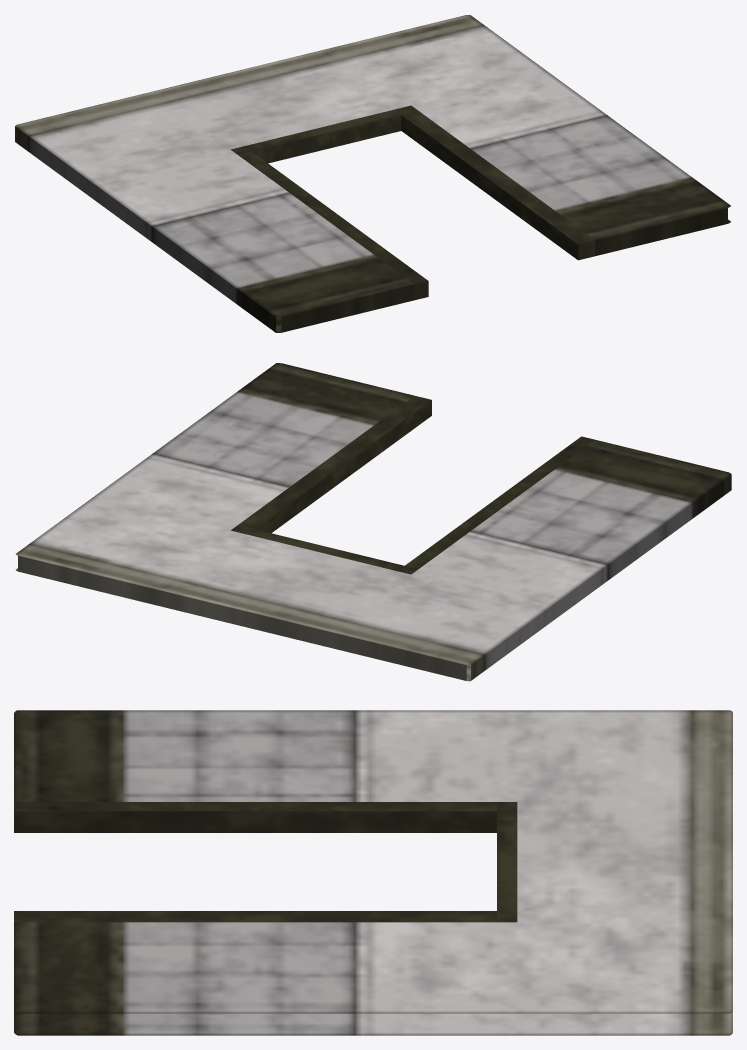
File: SM_EC_House_Wall_DoorWay_3x3_7.fbx
3 renders of one model, top to bottom at view 1: azimuth 30°, elevation 25°; view 2: azimuth 150°, elevation 25°; view 3: azimuth 270°, elevation 25°, orthographic. The views are drawn at different scales.
Parts seen in each view (by area): view 1: SM_EC_House_Wall_DoorWay_3x3_7; view 2: SM_EC_House_Wall_DoorWay_3x3_7; view 3: SM_EC_House_Wall_DoorWay_3x3_7.
Part boxes in pixels (<box>): SM_EC_House_Wall_DoorWay_3x3_7: <box>15,15,730,332</box>; SM_EC_House_Wall_DoorWay_3x3_7: <box>16,363,731,681</box>; SM_EC_House_Wall_DoorWay_3x3_7: <box>14,710,732,1035</box>.
Size of the model in its own units: 3 by 3 by 0.1.
